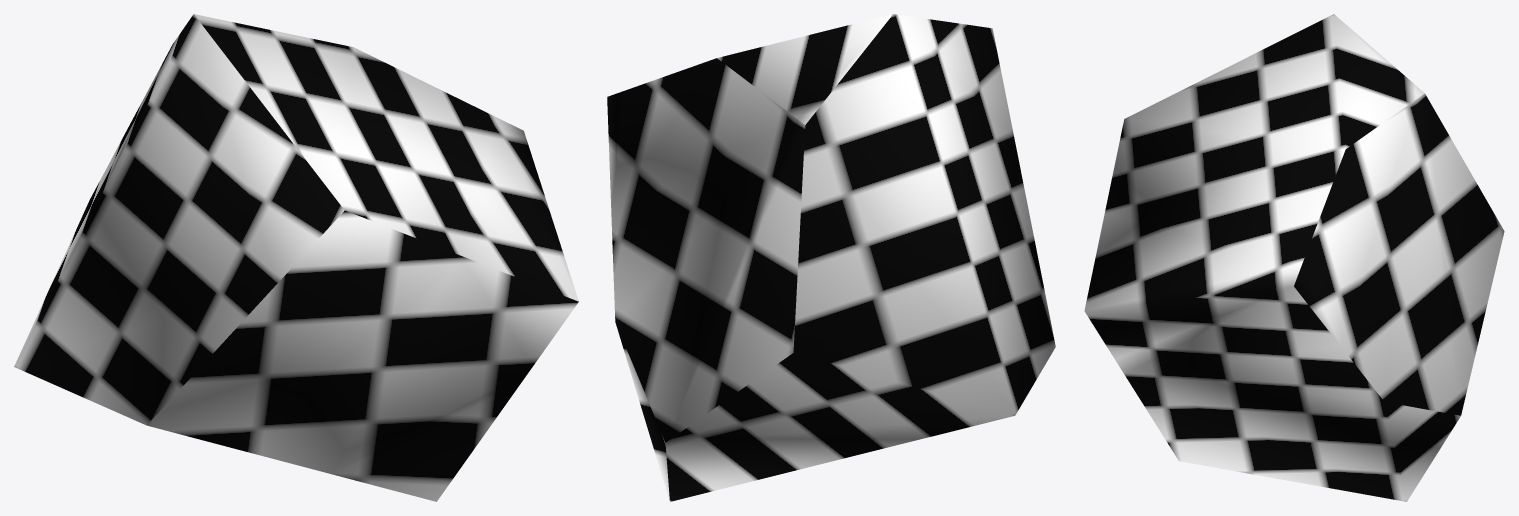
Rendered from initqu13.dae.
The picture shows the model from 3 angles, left to right: view 1: azimuth 30°, elevation 25°; view 2: azimuth 150°, elevation 25°; view 3: azimuth 270°, elevation 25°; orthographic projection. The views are drawn at different scales.
Parts seen in each view (by area): view 1: item; view 2: item; view 3: item.
Part boxes in pixels (x1=…): item: x1=14, y1=14, x2=578, y2=501; item: x1=607, y1=14, x2=1055, y2=501; item: x1=1084, y1=14, x2=1504, y2=501.
Size of the model in its own units: 1.43 by 1.35 by 1.47.
1 material, 1 textured.
